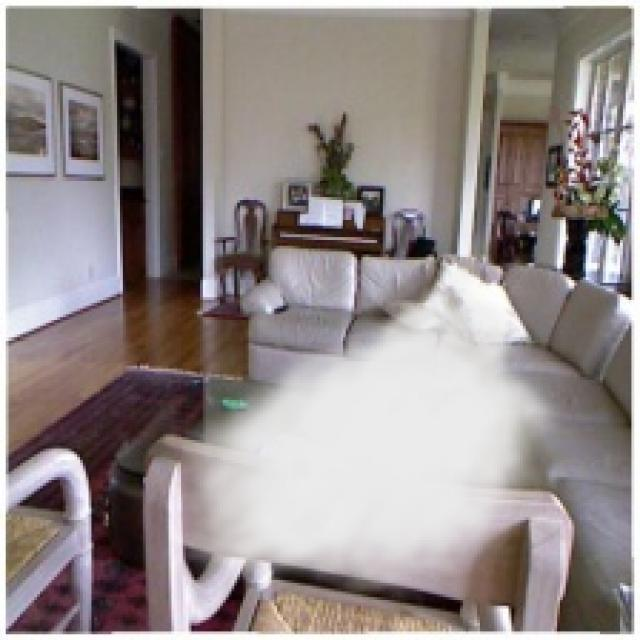Smoke: (160, 223, 569, 603)
